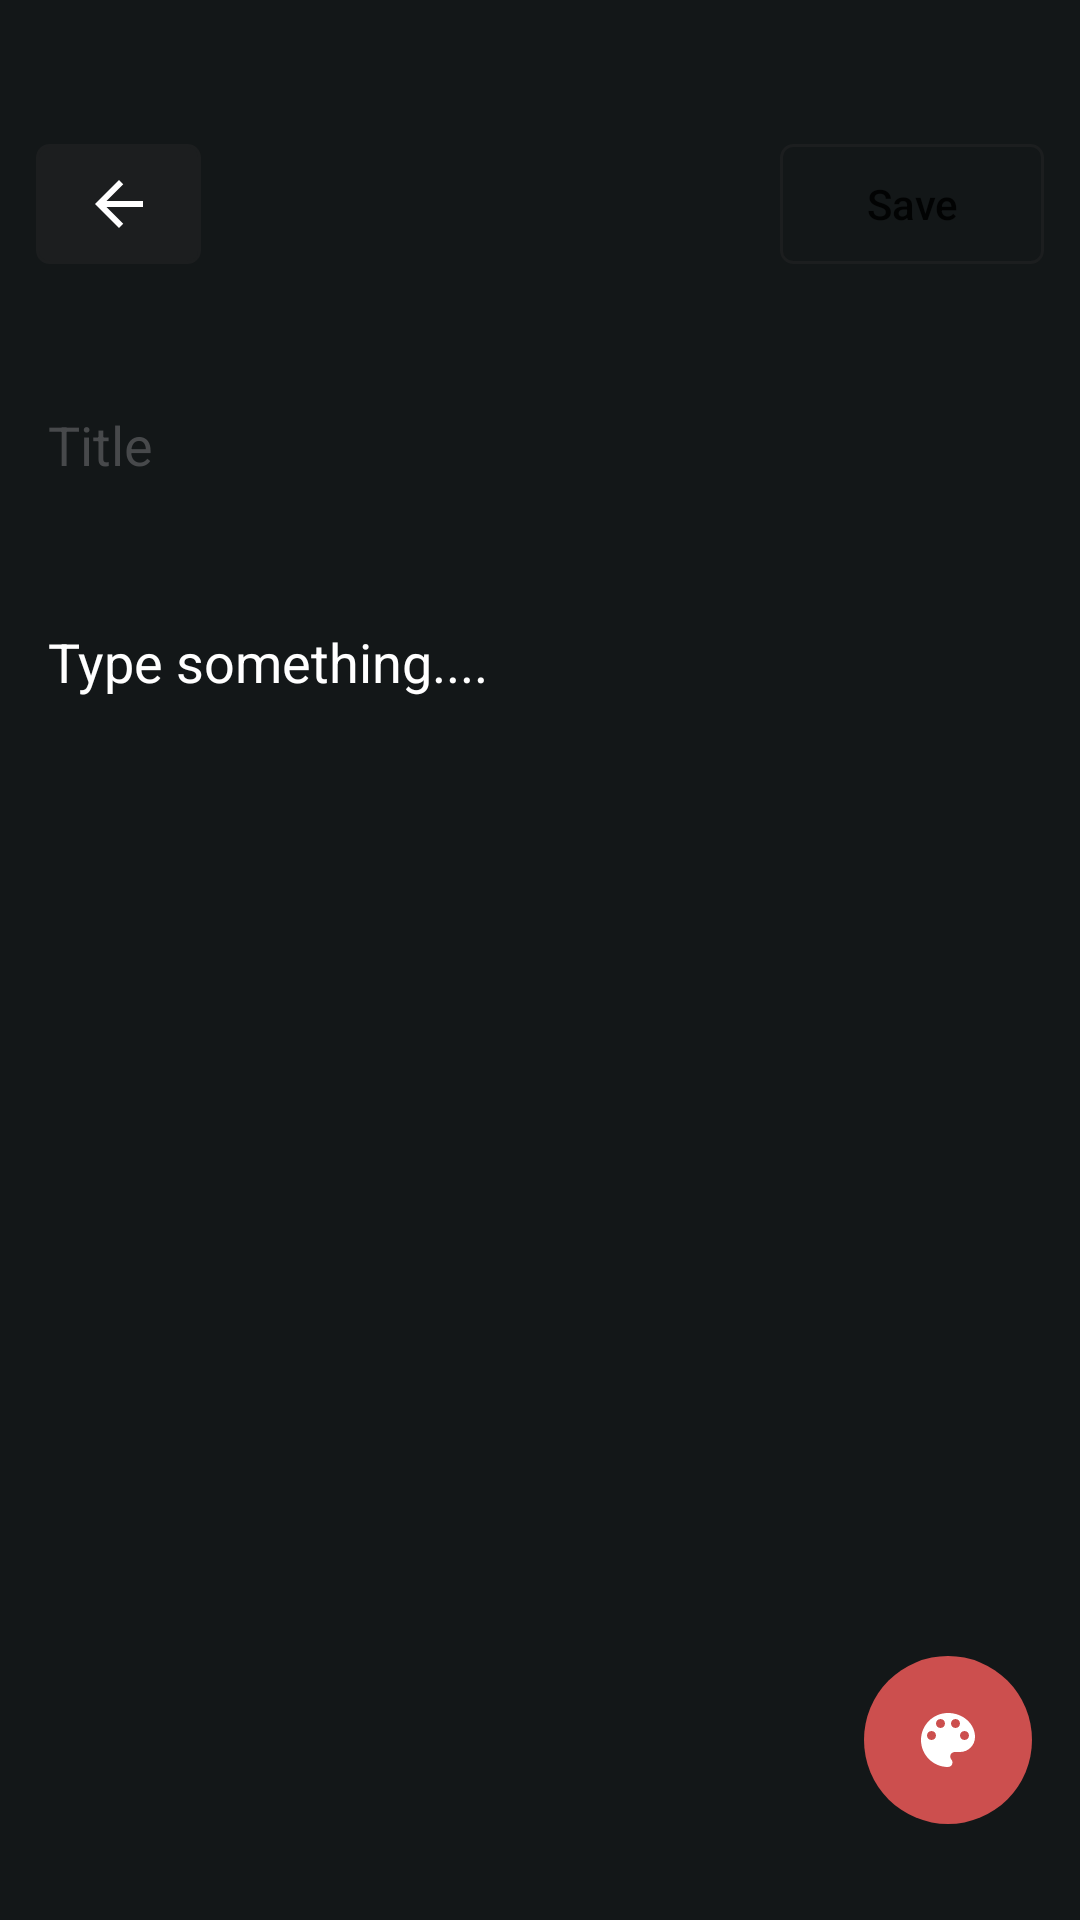

Icon bounding boxes for this 1080x1920 phone screenshot, format (x1, y1, x2, y2):
arrow back: (36, 144, 201, 264)
